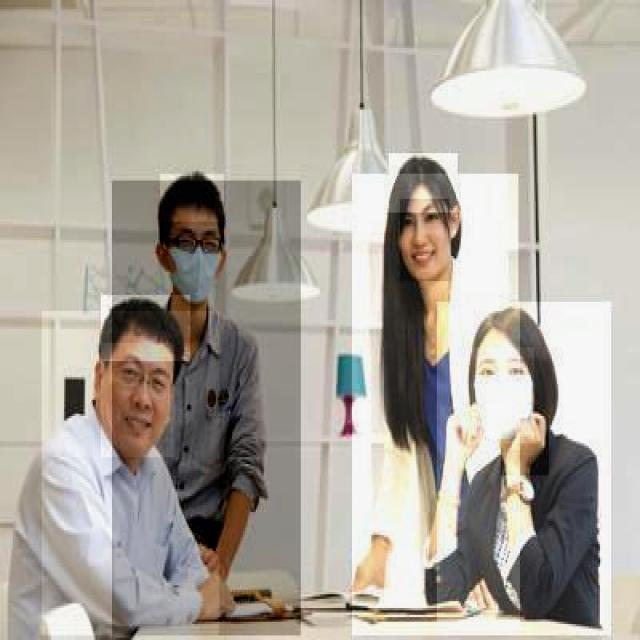face_mask: (472, 348, 534, 443), (162, 220, 222, 306)
face_nomask: (101, 343, 174, 457), (400, 199, 450, 281)
glasses: (113, 359, 169, 404), (168, 232, 222, 259)
hand_noglove: (440, 404, 485, 468), (501, 418, 549, 476)
head_nohelmet: (101, 295, 190, 361), (467, 306, 549, 359), (389, 153, 459, 215), (160, 174, 226, 224)
person: (112, 180, 302, 638), (352, 173, 520, 638), (437, 302, 613, 638), (42, 311, 220, 638)
